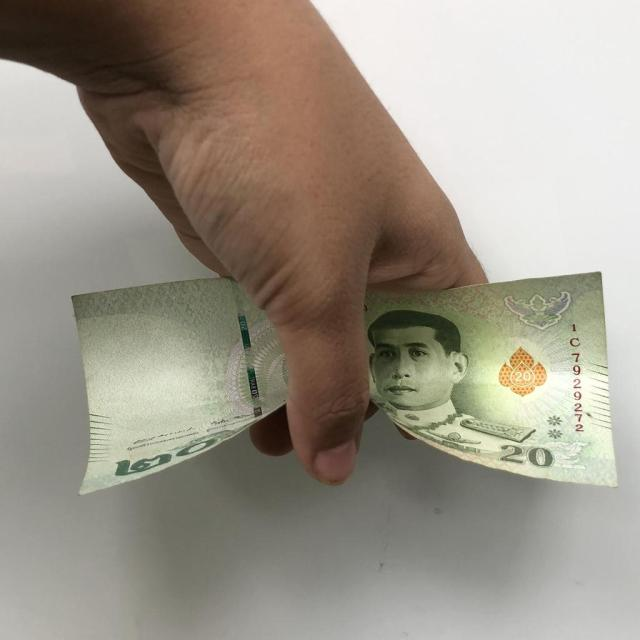THAI20: (365, 273, 616, 486), (73, 279, 288, 494)
